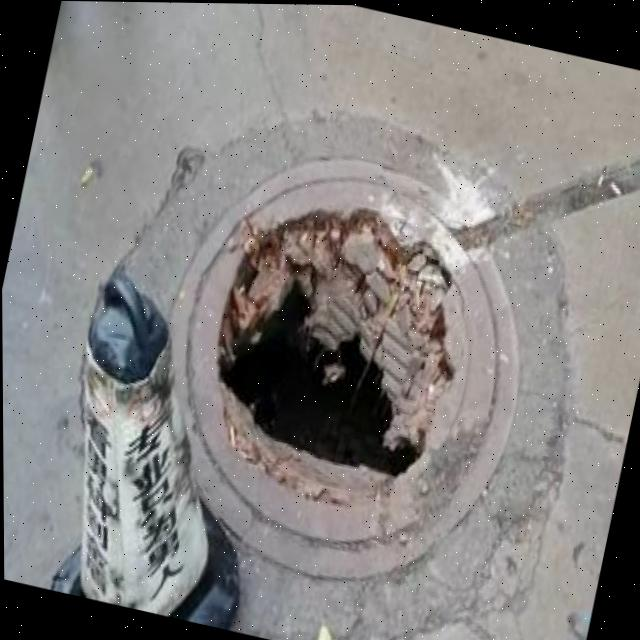manhole: (144, 133, 558, 576)
